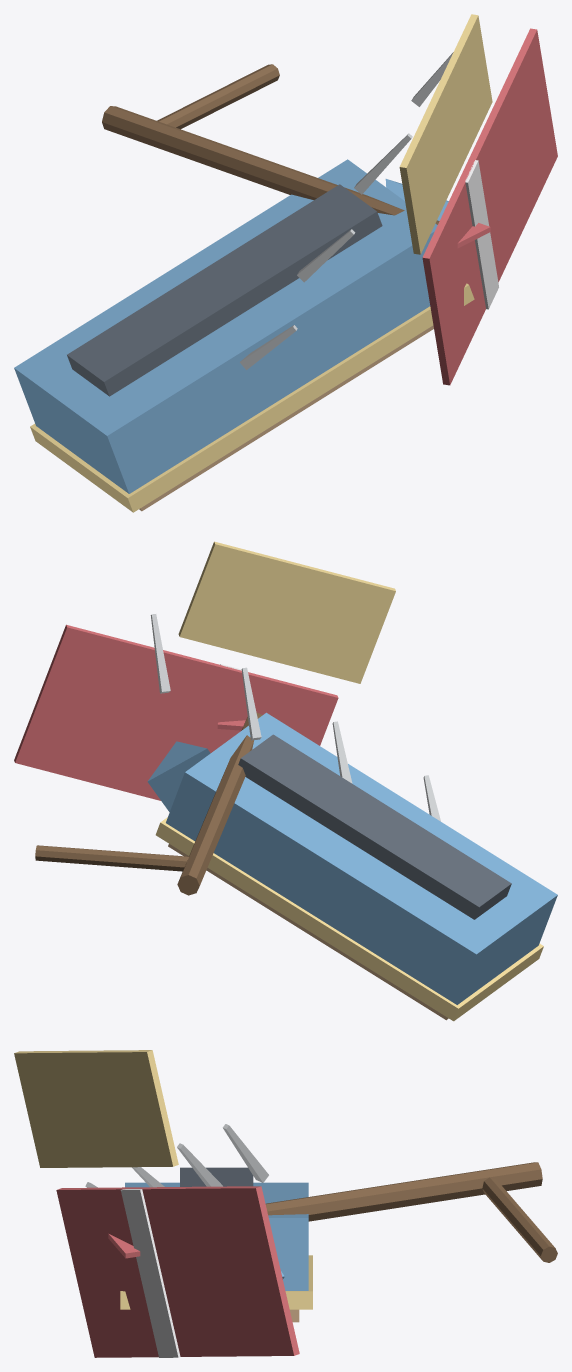
The model's file is toy_boat_botched.glb.
3 renders of one model, top to bottom at view 1: azimuth 30°, elevation 25°; view 2: azimuth 150°, elevation 25°; view 3: azimuth 270°, elevation 25°, orthographic. The views are drawn at different scales.
Visible parts, largest first — view 1: Hull, Flag, Keel, Rail, Mast, Bent nail.0, Sail stripe, Deck; view 2: Hull, Flag, Rail, Keel, Mast, Bent nail.0, Deck; view 3: Flag, Rail, Mast, Sail stripe, Hull, Bent nail.0, Keel.
Part boxes in pixels (x1,y1,x2,y2): Hull: (14, 159, 448, 493); Flag: (422, 28, 557, 385); Keel: (67, 184, 382, 396); Rail: (30, 14, 492, 512); Mast: (102, 64, 439, 224); Bent nail.0: (240, 52, 453, 369); Sail stripe: (465, 160, 498, 309); Deck: (139, 325, 433, 511); Hull: (147, 712, 557, 1004); Flag: (14, 624, 338, 800); Rail: (155, 541, 543, 1021); Keel: (238, 734, 511, 919); Mast: (35, 712, 262, 895); Bent nail.0: (150, 614, 440, 821); Deck: (168, 844, 448, 1020); Flag: (56, 1186, 299, 1357); Rail: (14, 1050, 312, 1309); Mast: (265, 1162, 557, 1262); Sail stripe: (120, 1189, 180, 1357); Hull: (125, 1182, 308, 1290); Bent nail.0: (85, 1124, 268, 1187); Keel: (180, 1167, 253, 1186).
Bounding box in the file's own units: 0.6649 × 0.4827 × 0.5928.
